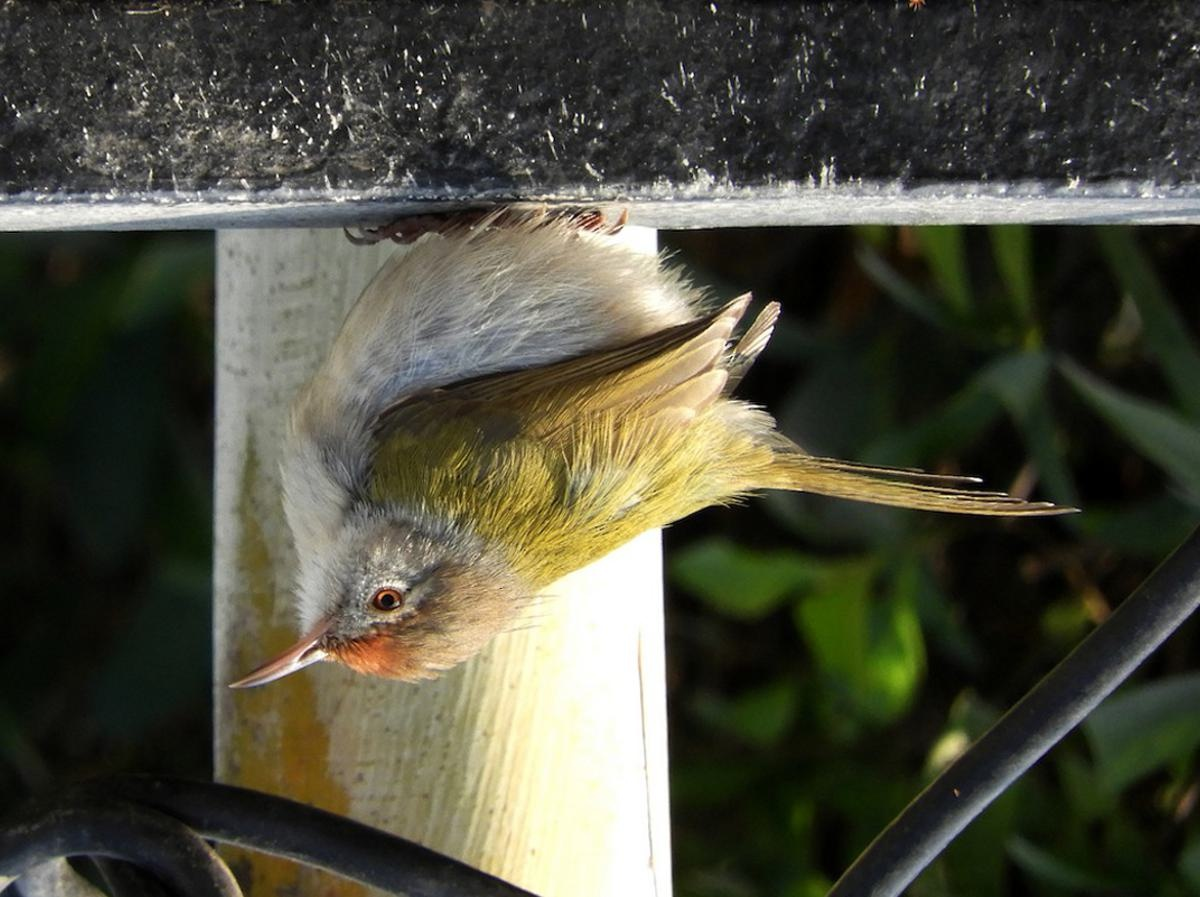tailorbird: (266, 208, 1026, 718)
